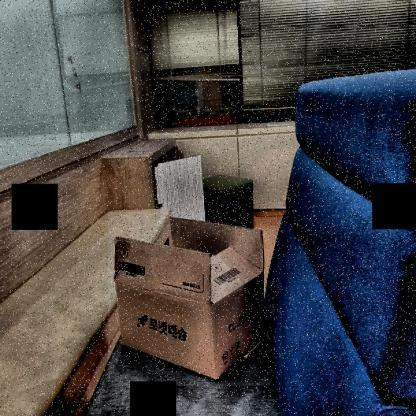-: (108, 212, 282, 386)
